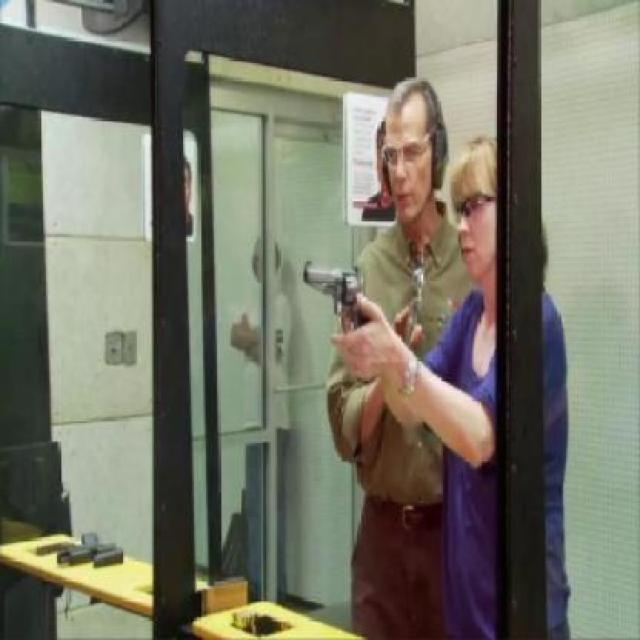gun: (303, 258, 369, 344)
